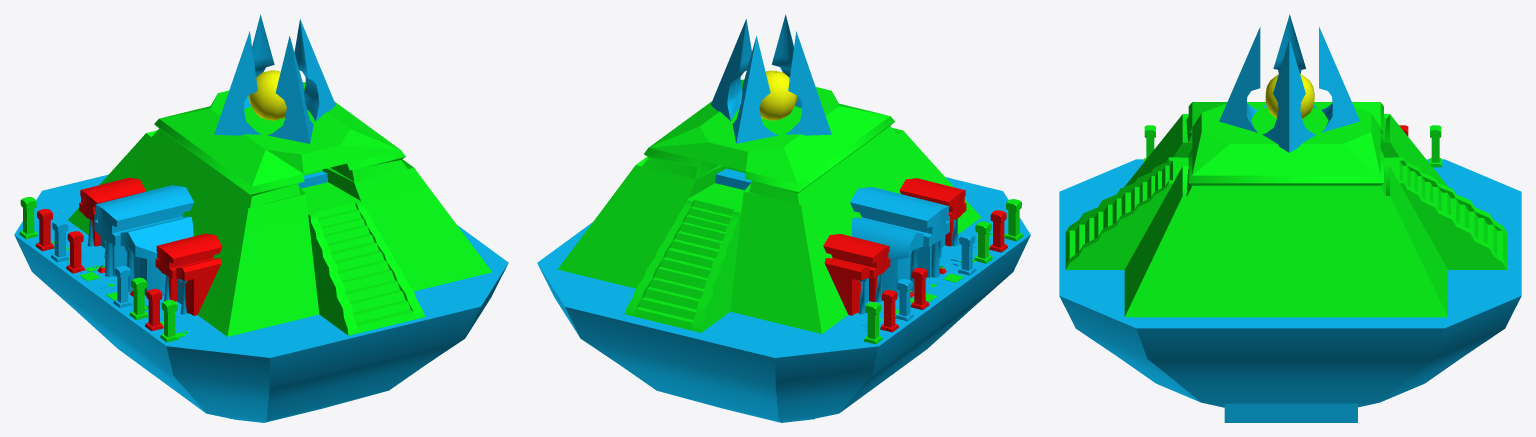
The model's file is level01_floor09.FBX.
3 views of the same model, side by side, from view 1: azimuth 30°, elevation 25°; view 2: azimuth 150°, elevation 25°; view 3: azimuth 270°, elevation 25° (orthographic).
Visible parts, largest first — view 1: floor09_temple, floor09_floor, floor09_props; view 2: floor09_temple, floor09_floor, floor09_props; view 3: floor09_temple, floor09_floor, floor09_props.
Boxes of the visible parts, x1=… form: floor09_temple: x1=68, y1=14, x2=491, y2=418; floor09_floor: x1=14, y1=174, x2=508, y2=422; floor09_props: x1=19, y1=197, x2=190, y2=342; floor09_temple: x1=557, y1=14, x2=981, y2=419; floor09_floor: x1=537, y1=177, x2=1030, y2=422; floor09_props: x1=862, y1=199, x2=1023, y2=344; floor09_temple: x1=1065, y1=14, x2=1506, y2=422; floor09_floor: x1=1059, y1=159, x2=1521, y2=407; floor09_props: x1=1143, y1=125, x2=1442, y2=167.
Bounding box in the file's own units: 1489 × 1519 × 1721.
